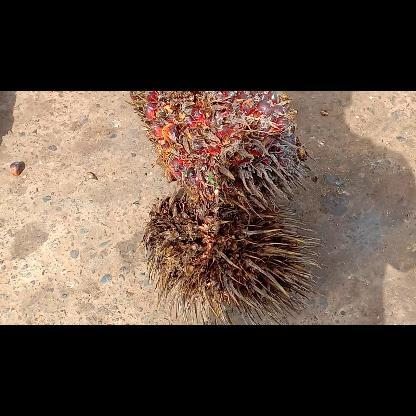Janjang kosong: (140, 194, 322, 324)
TBS masak: (129, 90, 309, 218)
